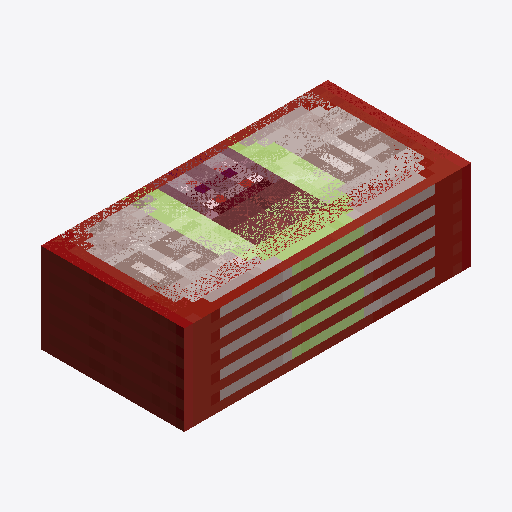
Isometric view (azimuth 45°, elevation 35.3°) of a Minecraft model made of 22 cuboids, textured from the same repository.
Parts seen in each view (by area): element 22, element 6, element 14, element 18, element 2, element 10, element 5, element 13, element 9, element 21, element 17.
Part boxes in pixels (left/top/right/bottom): element 22: left=41, top=80, right=470, bottom=327; element 6: left=184, top=225, right=470, bottom=410; element 14: left=184, top=184, right=470, bottom=369; element 18: left=184, top=163, right=470, bottom=348; element 2: left=184, top=246, right=470, bottom=431; element 10: left=184, top=205, right=470, bottom=389; element 5: left=41, top=329, right=183, bottom=431; element 13: left=41, top=287, right=183, bottom=389; element 9: left=41, top=308, right=183, bottom=410; element 21: left=41, top=246, right=183, bottom=348; element 17: left=41, top=267, right=183, bottom=368.
Size of the model in its own units: 16 by 5 by 8.